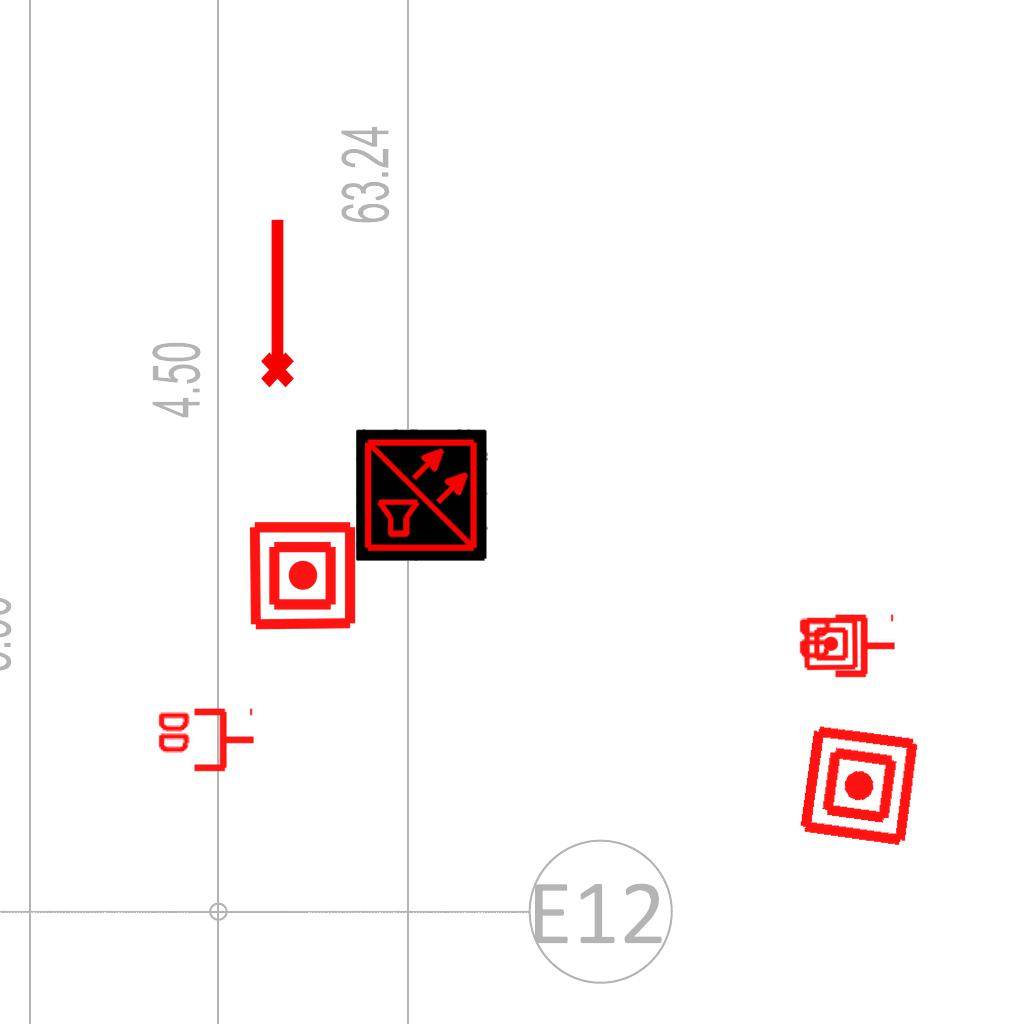ASR_Ansaugoeffnung: (252, 214, 298, 390)
Datenanschluss_zweifach: (154, 707, 257, 776), (795, 613, 898, 682)
NAM-Nichtautomatischer_Melder: (795, 721, 924, 850), (246, 519, 359, 632), (803, 616, 859, 672)
OKW_Multisensormelder_(Kombination_optischer_Rauch-Kahlenmonoxid_Waerme-Melder): (356, 429, 488, 561)
